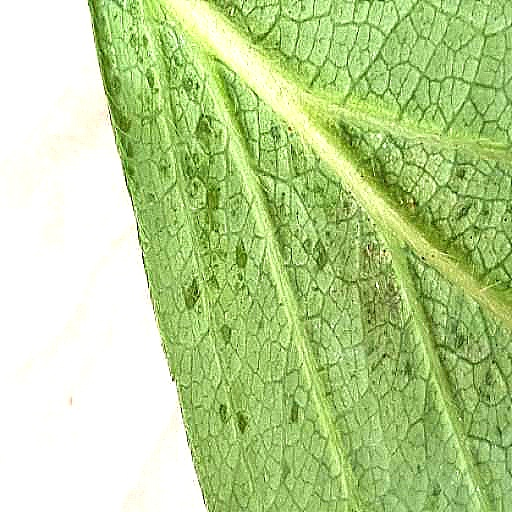Angular Leafspot: (88, 0, 511, 506)
